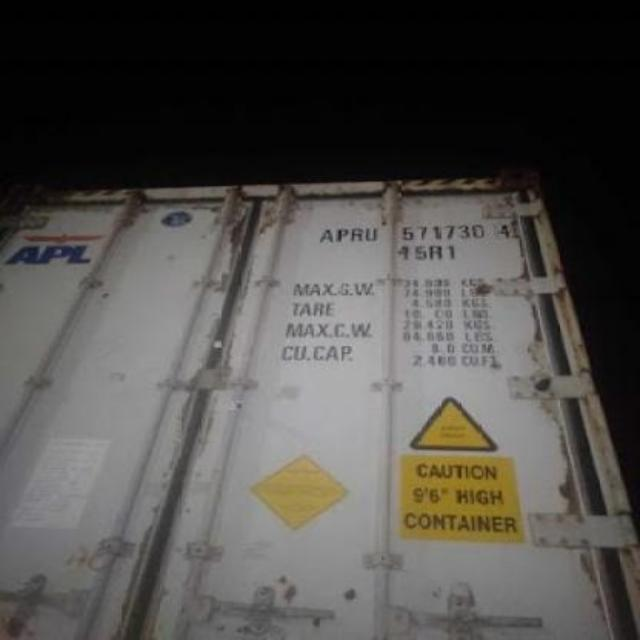0: (470, 215, 486, 242)
1: (431, 214, 444, 244)
3: (458, 217, 472, 243)
4: (492, 219, 516, 243)
5: (396, 222, 414, 244)
7: (442, 216, 458, 244), (416, 224, 428, 242)
A: (316, 224, 334, 246)
P: (334, 225, 348, 249)
R: (350, 223, 362, 247)
U: (364, 224, 378, 246)
